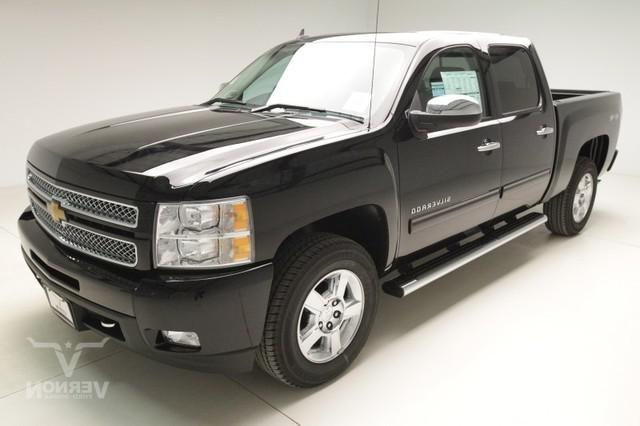Car: (17, 12, 632, 398)
